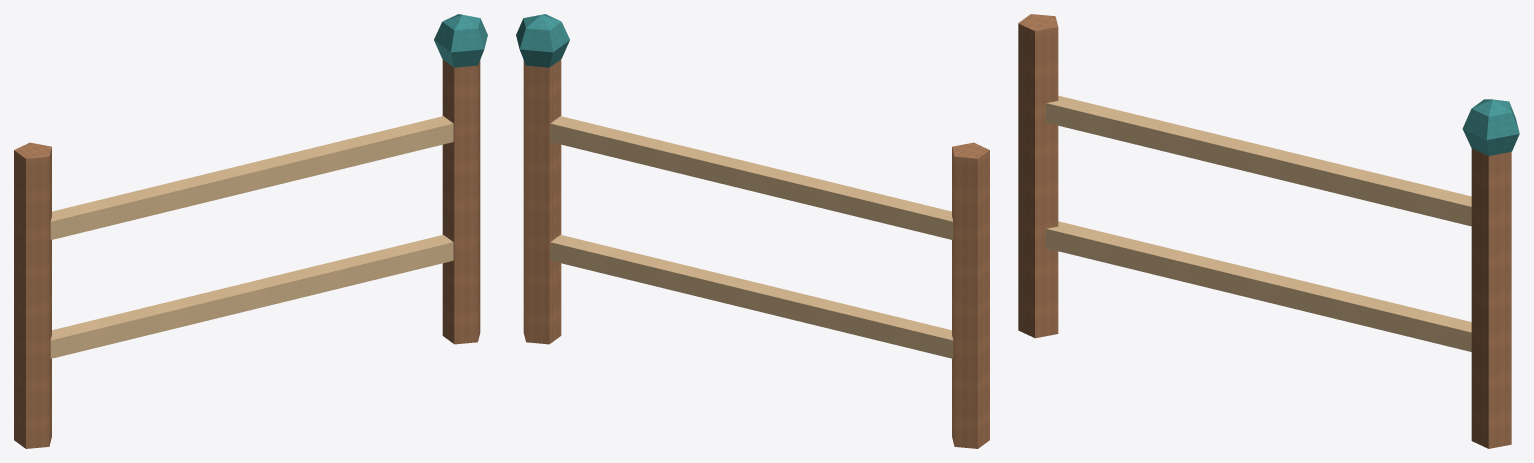
The model's file is atlas100-desertdeco-util04.lod1.glb.
3 renders of one model, left to right at view 1: azimuth 30°, elevation 25°; view 2: azimuth 150°, elevation 25°; view 3: azimuth 330°, elevation 25°, orthographic. The views are drawn at different scales.
Visible parts, largest first — view 1: atlas100-desertdeco-util04:part-005, atlas100-desertdeco-util04:part-004, atlas100-desertdeco-util04:part-000, atlas100-desertdeco-util04:part-002, atlas100-desertdeco-util04:part-003; view 2: atlas100-desertdeco-util04:part-005, atlas100-desertdeco-util04:part-004, atlas100-desertdeco-util04:part-000, atlas100-desertdeco-util04:part-002, atlas100-desertdeco-util04:part-003; view 3: atlas100-desertdeco-util04:part-005, atlas100-desertdeco-util04:part-004, atlas100-desertdeco-util04:part-000, atlas100-desertdeco-util04:part-002, atlas100-desertdeco-util04:part-003.
Part boxes in pixels (left/top/right/bottom): atlas100-desertdeco-util04:part-005: left=50, top=116, right=453, bottom=239; atlas100-desertdeco-util04:part-004: left=50, top=235, right=453, bottom=358; atlas100-desertdeco-util04:part-000: left=14, top=142, right=51, bottom=448; atlas100-desertdeco-util04:part-002: left=442, top=59, right=480, bottom=344; atlas100-desertdeco-util04:part-003: left=434, top=14, right=487, bottom=67; atlas100-desertdeco-util04:part-005: left=550, top=116, right=953, bottom=239; atlas100-desertdeco-util04:part-004: left=550, top=235, right=953, bottom=358; atlas100-desertdeco-util04:part-000: left=952, top=142, right=989, bottom=448; atlas100-desertdeco-util04:part-002: left=523, top=59, right=561, bottom=344; atlas100-desertdeco-util04:part-003: left=516, top=14, right=569, bottom=67; atlas100-desertdeco-util04:part-005: left=1046, top=95, right=1471, bottom=226; atlas100-desertdeco-util04:part-004: left=1046, top=221, right=1471, bottom=351; atlas100-desertdeco-util04:part-000: left=1018, top=14, right=1058, bottom=338; atlas100-desertdeco-util04:part-002: left=1471, top=148, right=1511, bottom=448; atlas100-desertdeco-util04:part-003: left=1462, top=99, right=1519, bottom=155.
Bounding box in the file's own units: 2.03 × 1.33 × 0.2077.
Materials: 3 (3 with a texture image).
